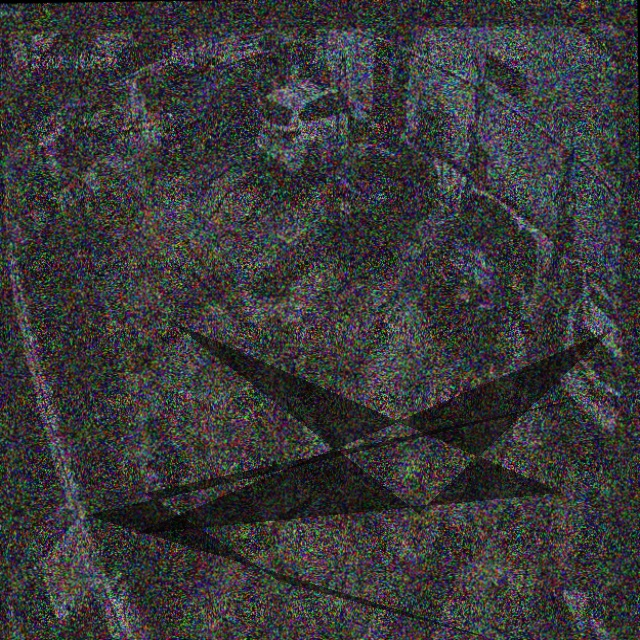Car: (327, 128, 438, 261), (160, 46, 286, 161), (433, 190, 534, 332), (257, 81, 371, 183)
